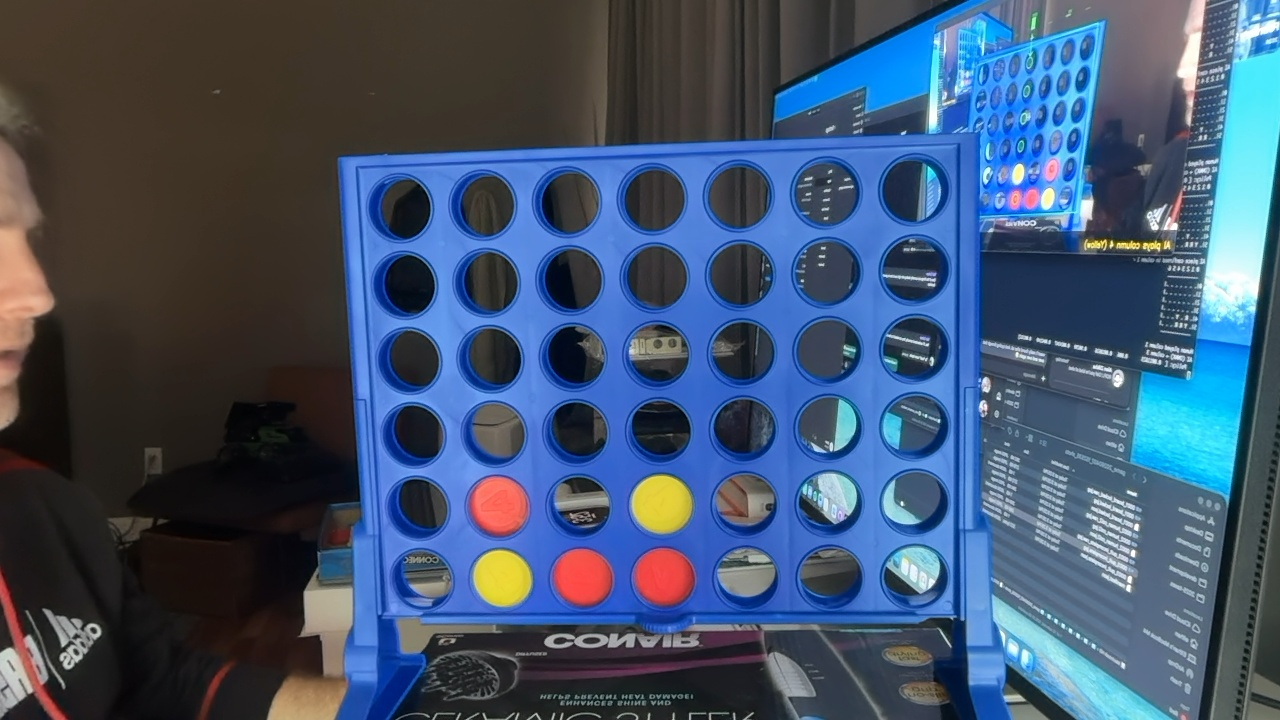red piece: (468, 476, 529, 536), (633, 548, 695, 607), (552, 548, 613, 607)
yellow piece: (630, 474, 693, 534), (472, 549, 532, 607)
